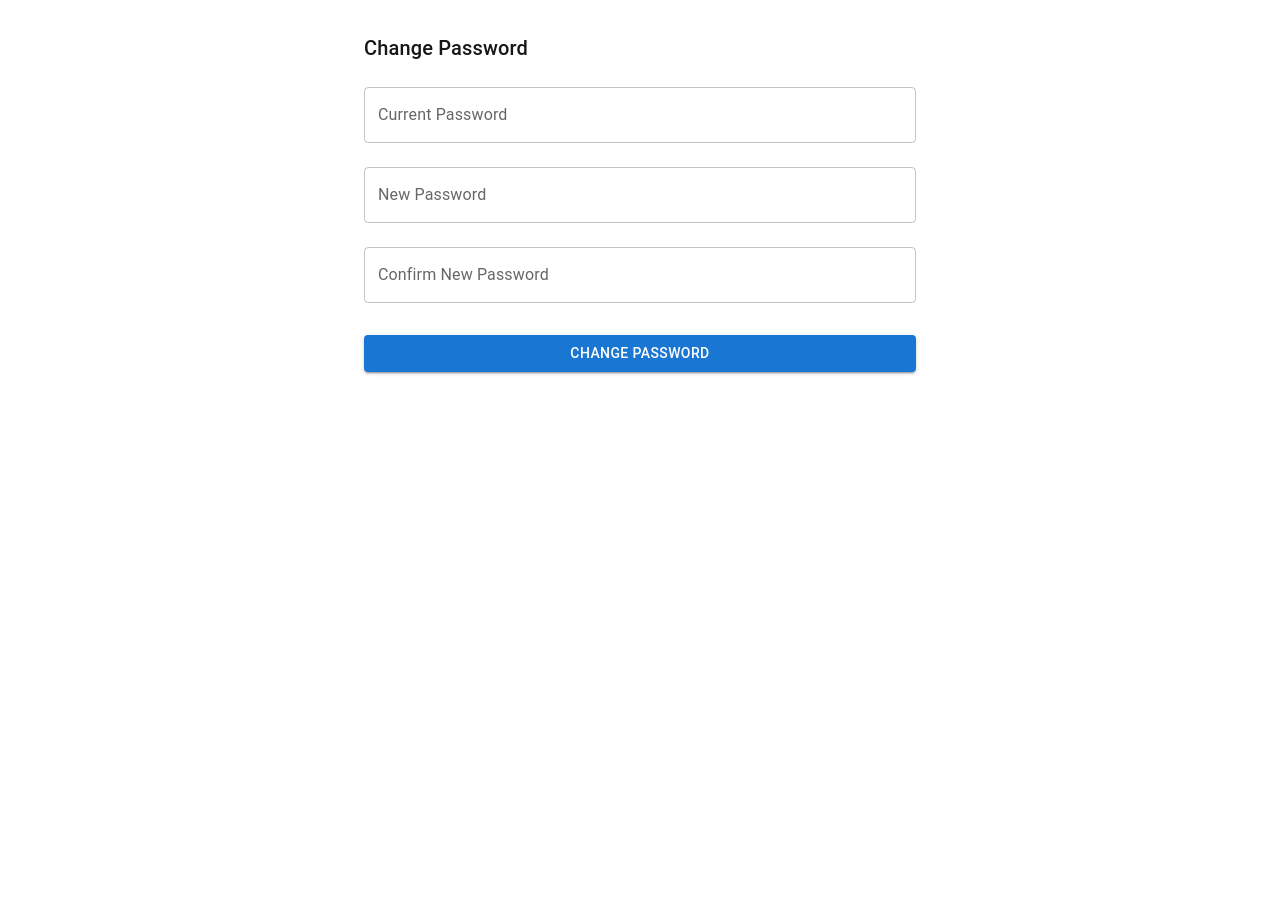
Test: ChangePasswordPage Integration › displays error message on password change failure
The width and height of the screenshot is (1280, 900).
Type "wrong_password" into the password field labelled "Current Password".
click(640, 115); type("wrong_password")  # box [364,87,916,143]
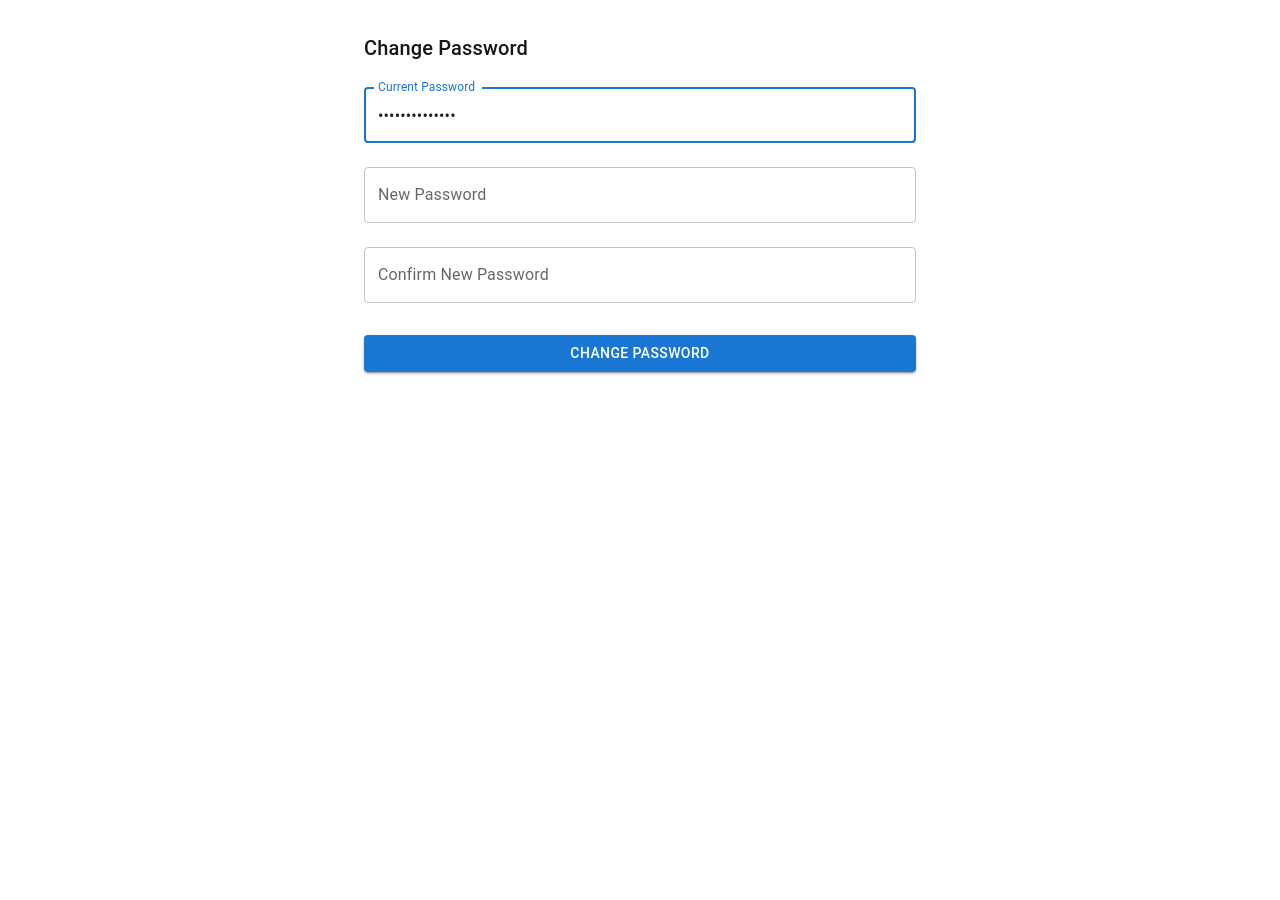
Type "NewPassword456!" into the password field labelled "New Password".
click(640, 195); type("NewPassword456!")  # box [364,167,916,223]
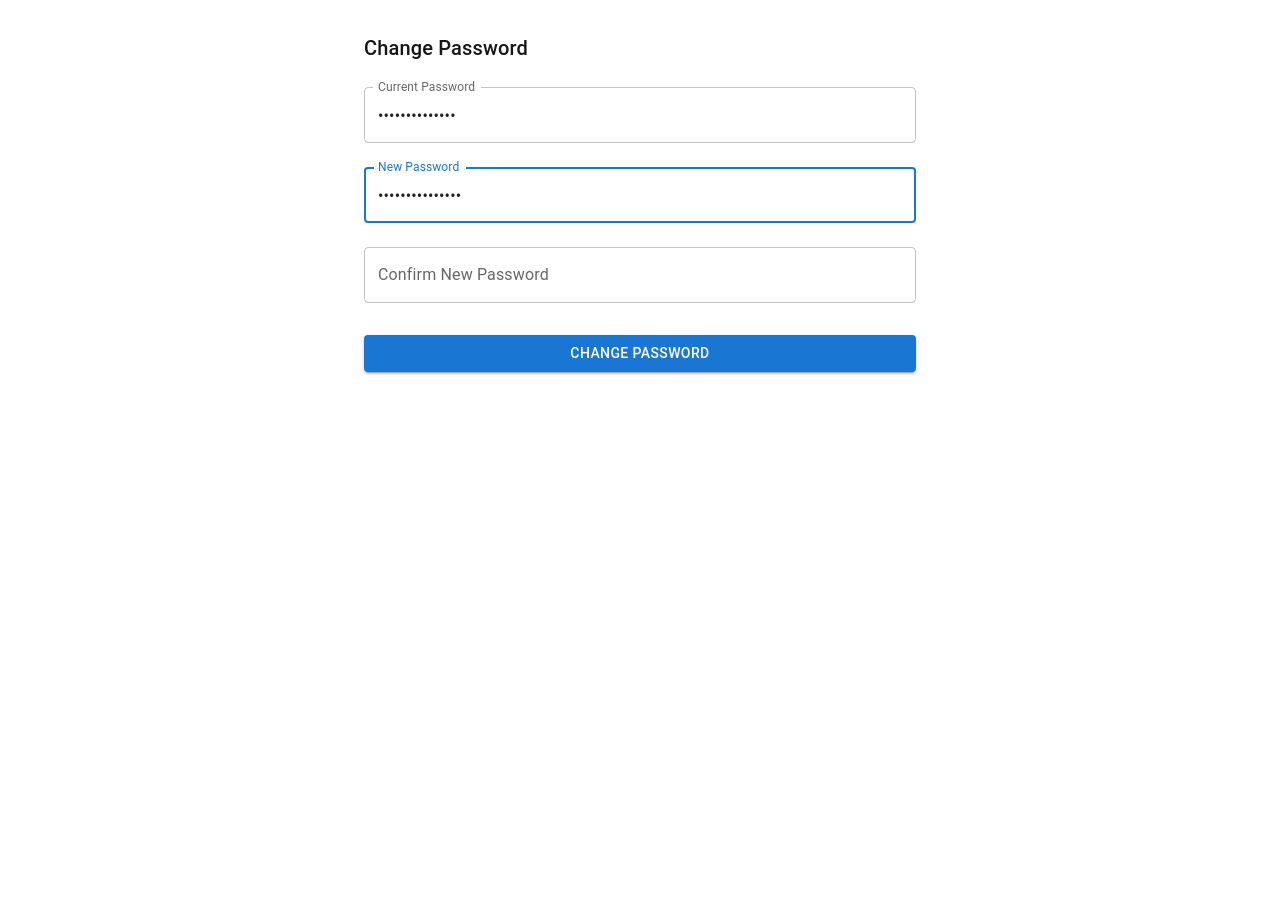
Type "NewPassword456!" into the password field labelled "Confirm New Password".
click(640, 275); type("NewPassword456!")  # box [364,247,916,303]
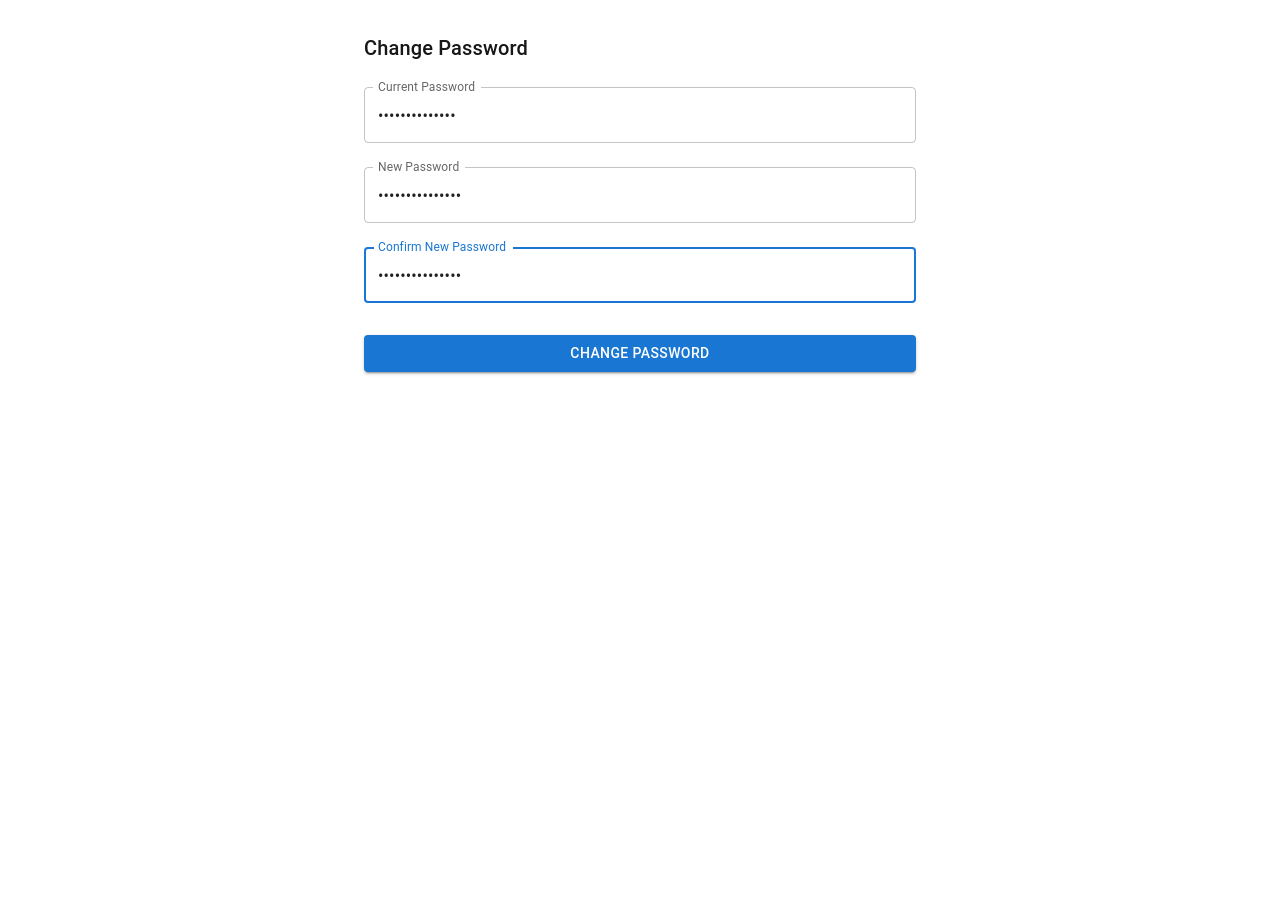
Click the button "Change Password".
click(640, 353)  # box [364,335,916,372]
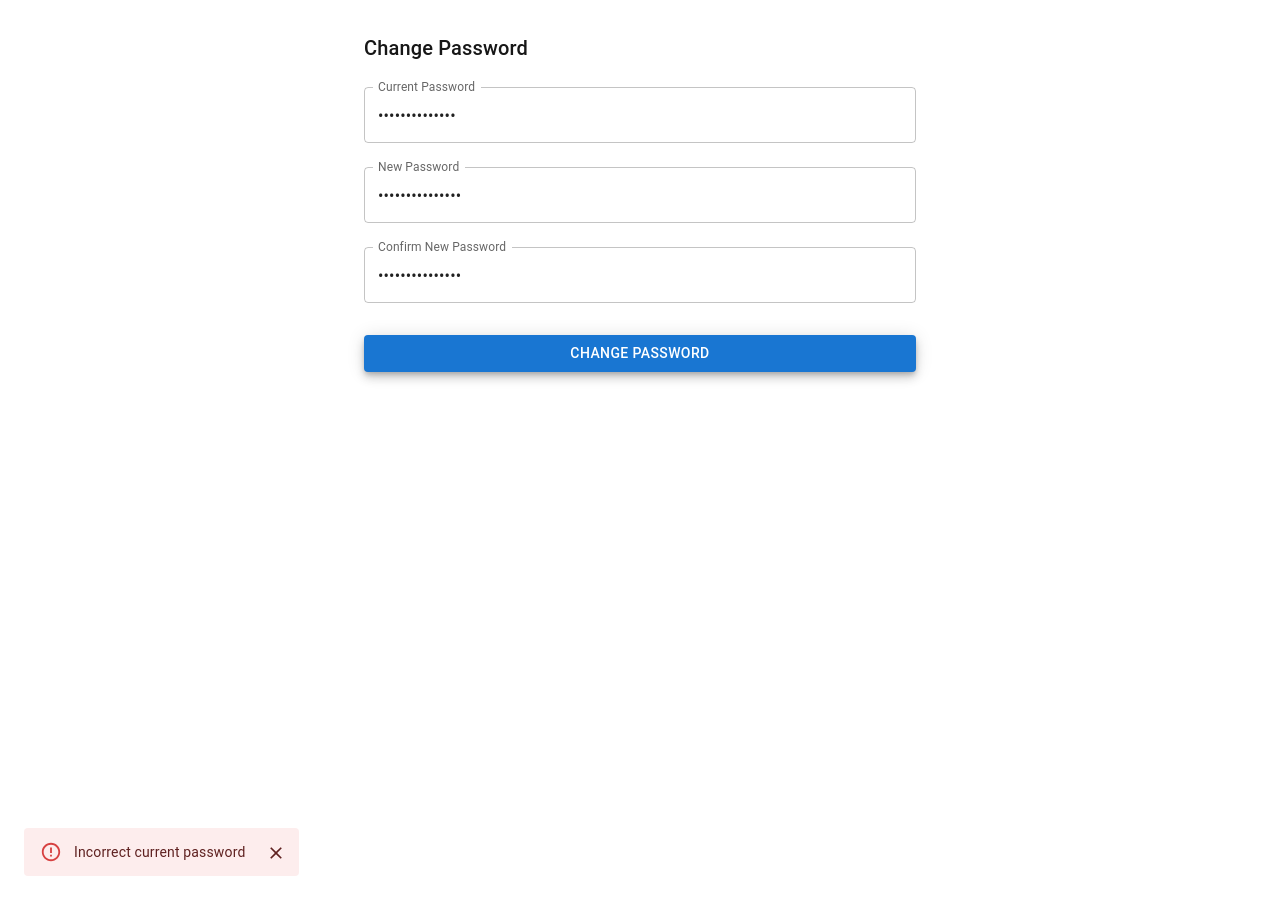
Now the text "Incorrect current password" is shown, box [74,844,246,860]
